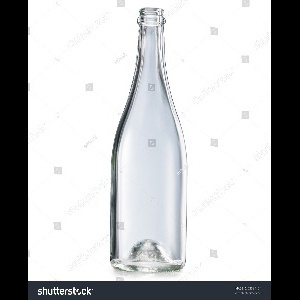emptybottle: (108, 7, 188, 273)
